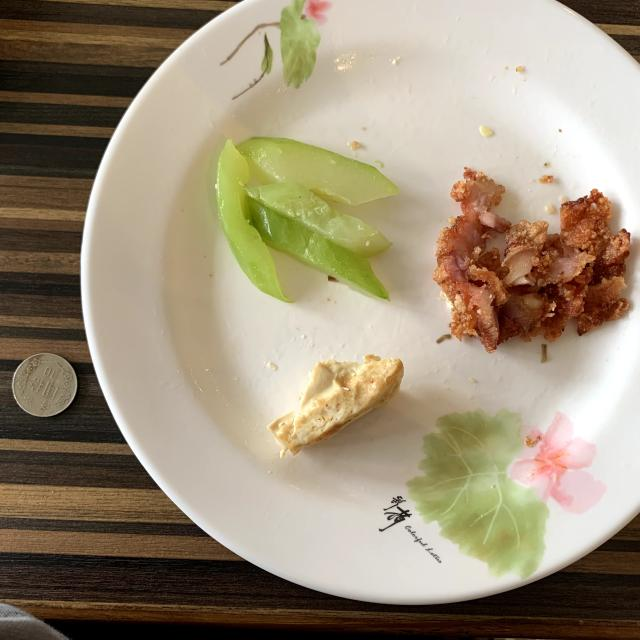coin: (12, 354, 78, 416)
red grilled pork: (434, 169, 629, 352)
